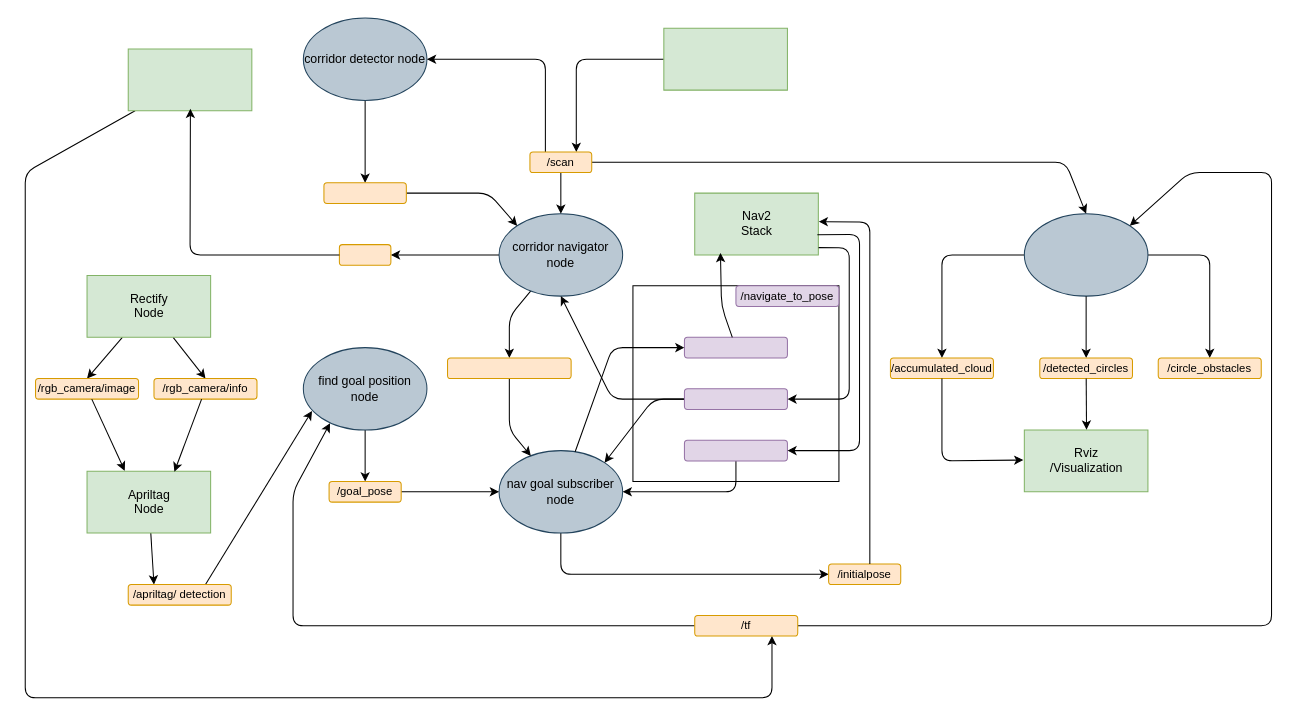
This 1298x724 diagram has some shape labels left out. The centre of each missing label's shape, as x and y in pixels:
"/cmd_vel" belongs at point (364, 254).
"/corridor_state" belongs at point (364, 192).
"/manual_corridor_active" belongs at point (509, 368).
"circle detector node" belongs at point (1085, 254).
"feedback" belongs at point (735, 398).
"goal" belongs at point (735, 347).
"Lidar/Sim Node" belongs at point (725, 58).
"result" belongs at point (735, 450).
"Robot Base" belongs at point (189, 79).
